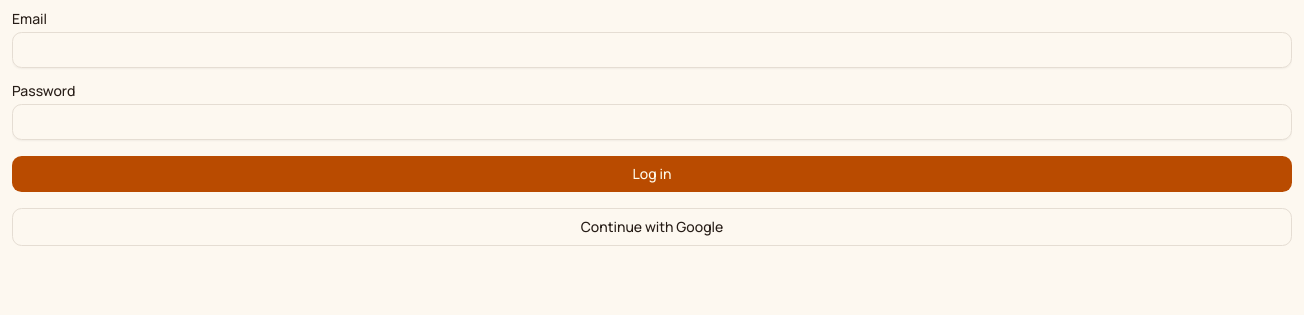
LoginForm › shows an accessible error on failure
The image size is (1304, 315).
Type "a@b.com" into the field labelled "Email".
click(652, 50); type("a@b.com")  # box x1=12 y1=32 x2=1292 y2=68
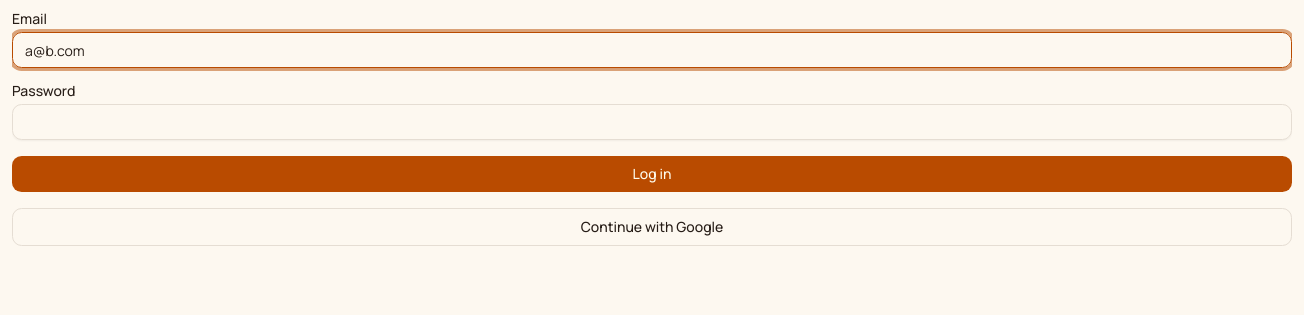
Type "wrongpw" into the password field labelled "Password".
click(652, 122); type("wrongpw")  # box x1=12 y1=104 x2=1292 y2=140
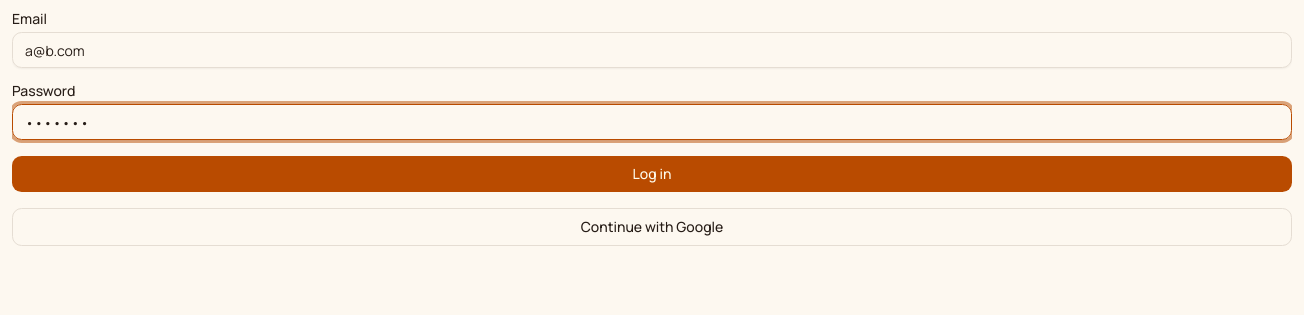
Click the button "Log in".
click(652, 174)  # box x1=12 y1=156 x2=1292 y2=192
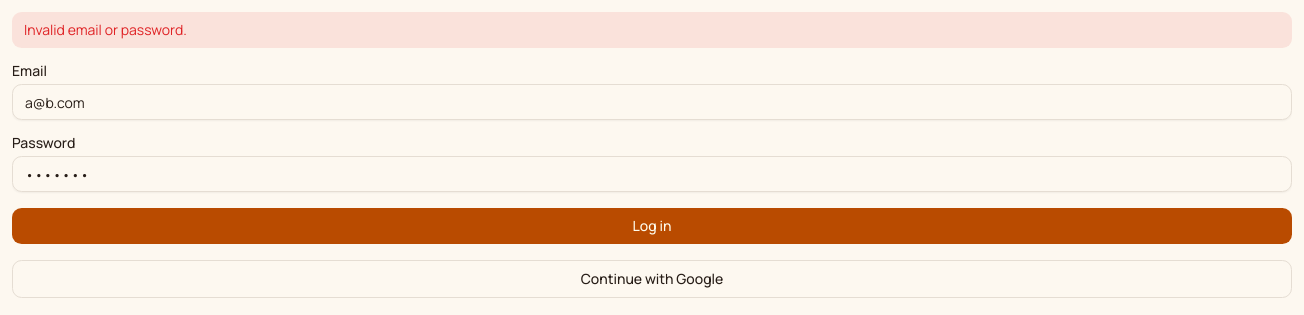
Expected: the message reads "Invalid email or password.", x1=24 y1=20 x2=187 y2=39
